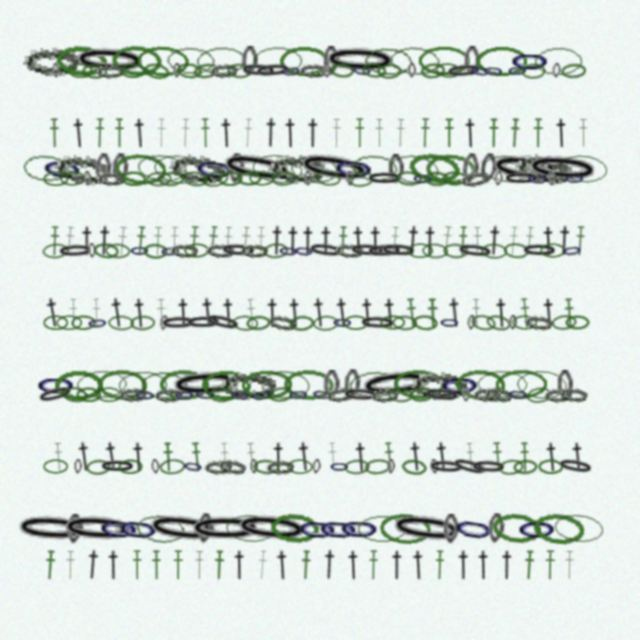chain: (218, 148, 296, 189), (295, 148, 373, 189), (388, 510, 466, 548), (488, 150, 565, 188), (145, 510, 222, 548), (358, 366, 435, 403), (233, 510, 310, 547), (524, 151, 601, 187), (72, 44, 148, 78), (14, 512, 90, 546), (60, 512, 136, 546), (322, 44, 398, 77), (169, 368, 245, 401), (188, 514, 263, 544), (514, 150, 573, 187), (53, 151, 112, 187), (168, 151, 226, 186), (407, 150, 461, 187), (151, 151, 206, 187), (387, 151, 441, 187), (250, 151, 305, 186), (133, 511, 187, 546), (552, 511, 606, 546), (135, 151, 188, 186), (532, 511, 585, 546), (556, 152, 610, 186), (491, 511, 543, 546), (114, 152, 167, 186), (288, 152, 341, 186), (479, 152, 532, 186), (515, 368, 569, 401), (268, 153, 325, 184), (388, 44, 441, 77), (259, 368, 312, 401), (379, 512, 432, 545), (55, 44, 107, 77), (111, 44, 163, 77), (20, 152, 72, 185), (349, 152, 401, 185), (224, 512, 276, 545), (269, 512, 321, 545), (136, 45, 189, 77), (347, 369, 400, 401), (23, 46, 79, 76), (220, 370, 276, 400), (411, 370, 467, 400), (165, 45, 217, 77), (362, 45, 414, 77), (451, 511, 497, 547), (75, 369, 128, 400), (425, 153, 476, 185), (139, 369, 190, 401), (195, 45, 247, 76), (252, 45, 304, 76), (283, 369, 335, 400), (393, 369, 445, 400), (476, 369, 528, 400), (495, 369, 547, 400), (97, 369, 148, 400), (159, 369, 210, 400), (418, 46, 470, 76), (117, 370, 169, 400), (241, 370, 293, 400), (455, 369, 505, 400), (279, 46, 330, 76), (476, 46, 527, 76), (40, 152, 85, 186), (201, 370, 252, 400), (116, 512, 161, 546), (356, 514, 407, 544), (533, 46, 583, 76), (54, 370, 104, 400), (193, 152, 237, 186), (332, 152, 376, 185), (97, 512, 141, 545), (296, 513, 339, 545), (317, 513, 360, 545), (338, 513, 381, 544), (509, 46, 551, 76), (35, 370, 77, 400), (439, 370, 481, 400), (516, 514, 558, 544), (450, 455, 489, 479), (203, 311, 242, 334), (36, 383, 75, 406), (556, 456, 595, 477), (307, 241, 345, 260), (445, 62, 483, 80), (456, 242, 494, 260), (423, 386, 461, 404), (254, 62, 292, 79), (240, 62, 277, 79), (220, 242, 257, 259), (349, 242, 386, 259), (380, 242, 417, 259), (459, 169, 489, 189), (57, 243, 94, 259), (366, 243, 403, 259), (160, 315, 197, 331), (359, 315, 396, 331), (342, 387, 379, 403), (428, 459, 465, 475), (470, 459, 507, 475), (461, 153, 480, 184), (479, 153, 498, 184), (267, 313, 297, 332), (325, 385, 355, 404), (217, 457, 247, 476), (202, 169, 230, 189), (94, 153, 112, 184), (111, 153, 129, 184), (227, 153, 245, 184), (343, 369, 361, 400), (196, 513, 214, 544), (487, 513, 505, 544), (366, 171, 403, 186), (503, 171, 540, 186), (521, 243, 558, 258), (185, 315, 222, 330), (99, 459, 136, 474), (143, 61, 170, 81), (485, 313, 512, 333), (370, 386, 399, 404), (470, 313, 497, 332), (241, 46, 258, 76), (323, 370, 340, 400), (66, 514, 83, 544), (209, 62, 238, 79), (524, 314, 553, 331), (118, 386, 147, 403), (484, 386, 513, 403), (559, 386, 588, 403), (348, 170, 375, 188), (526, 386, 553, 404), (323, 46, 339, 76), (464, 46, 480, 76), (388, 154, 404, 184), (557, 370, 573, 400), (443, 514, 459, 544), (193, 62, 219, 80), (182, 170, 208, 188), (401, 458, 427, 476), (498, 458, 524, 476), (395, 170, 422, 187), (159, 458, 186, 475), (364, 458, 391, 475), (96, 63, 124, 79), (154, 387, 182, 403), (544, 387, 572, 403), (204, 459, 232, 475), (266, 459, 294, 475), (176, 62, 202, 79), (329, 62, 355, 79), (361, 62, 387, 79), (420, 62, 446, 79), (435, 62, 461, 79), (271, 170, 297, 187), (315, 170, 341, 187), (93, 242, 119, 259), (263, 242, 289, 259), (503, 242, 529, 259), (412, 314, 438, 331), (551, 314, 577, 331), (62, 386, 88, 403), (268, 386, 294, 403), (409, 386, 435, 403), (42, 243, 69, 259), (299, 63, 327, 78), (97, 171, 125, 186), (170, 243, 198, 258), (206, 243, 234, 258), (240, 243, 268, 258), (335, 243, 363, 258), (473, 387, 501, 402), (146, 171, 172, 187), (158, 171, 184, 187), (422, 243, 448, 259), (481, 243, 507, 259), (108, 315, 134, 331), (232, 315, 258, 331), (289, 315, 315, 331), (313, 315, 339, 331), (208, 387, 234, 403), (253, 459, 279, 475), (344, 459, 370, 475), (469, 62, 492, 80), (250, 386, 273, 404), (82, 63, 107, 79), (227, 63, 252, 79), (377, 63, 402, 79), (521, 63, 546, 79), (561, 63, 586, 79), (424, 171, 449, 187), (105, 243, 130, 259), (143, 243, 168, 259), (443, 243, 468, 259), (130, 315, 155, 331), (246, 315, 271, 331), (392, 315, 417, 331), (388, 387, 413, 403), (86, 459, 111, 475), (513, 459, 538, 475), (43, 171, 69, 186), (407, 243, 433, 258), (56, 315, 82, 330), (96, 387, 122, 402), (287, 459, 313, 474), (68, 63, 93, 78), (120, 63, 145, 78), (60, 171, 85, 186), (121, 171, 146, 186), (218, 171, 243, 186), (237, 171, 262, 186), (249, 171, 274, 186), (442, 171, 467, 186), (184, 243, 209, 258), (540, 243, 565, 258), (43, 315, 68, 330), (71, 315, 96, 330), (343, 315, 368, 330), (380, 315, 405, 330), (512, 315, 537, 330), (565, 315, 590, 330), (76, 387, 101, 402), (43, 459, 68, 474), (118, 459, 143, 474), (538, 459, 563, 474), (351, 62, 373, 79), (561, 242, 583, 259), (194, 386, 216, 403), (311, 386, 333, 403), (507, 386, 529, 403), (182, 458, 204, 475), (280, 63, 302, 79), (293, 243, 315, 259), (134, 387, 156, 403), (229, 387, 251, 403), (483, 63, 504, 79), (527, 171, 548, 187), (160, 243, 181, 259), (278, 243, 299, 259), (87, 315, 108, 331), (174, 387, 195, 403), (507, 63, 528, 78), (412, 171, 433, 186), (564, 171, 585, 186), (129, 243, 150, 258), (332, 315, 353, 330), (439, 315, 460, 330), (288, 387, 309, 402), (329, 459, 350, 474), (159, 315, 169, 331), (552, 63, 561, 78), (83, 171, 92, 186), (494, 171, 503, 186), (467, 315, 476, 330), (151, 459, 160, 474), (312, 459, 321, 474), (430, 459, 439, 474), (52, 63, 60, 78), (173, 63, 181, 78), (323, 63, 331, 78), (408, 63, 416, 78), (304, 171, 312, 186), (346, 171, 354, 186), (548, 171, 556, 186), (88, 243, 96, 258), (509, 315, 517, 330), (462, 387, 470, 402), (74, 459, 82, 474), (250, 459, 258, 474), (387, 459, 395, 474)
half_double: (403, 225, 423, 256), (43, 297, 63, 328), (102, 441, 122, 472), (83, 549, 103, 580), (95, 225, 114, 256), (485, 225, 504, 256), (555, 225, 574, 256), (108, 297, 127, 328), (310, 297, 329, 328), (333, 297, 352, 328), (75, 441, 94, 472), (295, 441, 314, 472), (433, 441, 452, 472), (320, 549, 339, 580), (262, 117, 280, 148), (268, 225, 286, 256), (199, 297, 217, 328), (446, 297, 464, 328), (407, 441, 425, 472), (70, 118, 88, 148), (131, 118, 149, 148), (304, 118, 322, 148), (78, 226, 96, 256), (284, 226, 302, 256), (299, 226, 317, 256), (317, 226, 335, 256), (421, 226, 439, 256), (131, 298, 149, 328), (286, 298, 304, 328), (381, 298, 399, 328), (540, 298, 558, 328), (352, 442, 370, 472), (543, 442, 561, 472), (569, 442, 587, 472), (388, 550, 406, 580), (498, 550, 516, 580), (218, 118, 235, 148), (282, 118, 299, 148), (462, 118, 479, 148), (553, 118, 570, 148), (350, 226, 367, 256), (367, 226, 384, 256), (540, 226, 557, 256), (175, 298, 192, 328), (220, 298, 237, 328), (264, 298, 281, 328), (359, 298, 376, 328), (493, 298, 510, 328), (130, 442, 147, 472), (270, 442, 287, 472), (105, 550, 122, 580), (231, 550, 248, 580), (274, 550, 291, 580), (345, 550, 362, 580), (410, 550, 427, 580), (455, 550, 472, 580), (475, 550, 492, 580), (439, 225, 454, 256), (115, 226, 129, 256), (187, 226, 201, 256), (206, 226, 220, 256), (506, 226, 520, 256), (405, 298, 419, 328), (63, 226, 76, 256), (134, 226, 147, 256), (151, 226, 164, 256), (239, 226, 252, 256), (523, 226, 536, 256), (245, 298, 258, 328), (426, 298, 439, 328), (519, 298, 532, 328), (563, 298, 576, 328), (52, 442, 65, 472), (190, 442, 203, 472), (245, 442, 258, 472), (383, 442, 396, 472), (464, 442, 477, 472), (491, 442, 504, 472), (256, 550, 269, 580), (242, 118, 254, 148), (419, 118, 431, 148), (443, 118, 455, 148), (509, 118, 521, 148), (532, 118, 544, 148), (577, 118, 589, 148), (222, 226, 234, 256), (255, 226, 267, 256), (337, 226, 349, 256), (389, 226, 401, 256), (457, 226, 469, 256), (574, 226, 586, 256), (155, 298, 167, 328), (162, 442, 174, 472), (219, 442, 231, 472), (327, 442, 339, 472), (44, 550, 56, 580), (131, 550, 143, 580), (172, 550, 184, 580), (193, 550, 205, 580), (213, 550, 225, 580), (300, 550, 312, 580), (523, 550, 535, 580), (544, 550, 556, 580), (49, 118, 60, 148), (94, 118, 105, 148), (114, 118, 125, 148), (156, 118, 167, 148), (180, 118, 191, 148), (200, 118, 211, 148), (331, 118, 342, 148), (354, 118, 365, 148), (374, 118, 385, 148), (395, 118, 406, 148), (488, 118, 499, 148), (49, 226, 60, 256), (169, 226, 180, 256), (472, 226, 483, 256), (68, 298, 79, 328), (91, 298, 102, 328), (471, 298, 482, 328), (519, 442, 530, 472), (65, 550, 76, 580), (151, 550, 162, 580), (368, 550, 379, 580), (434, 550, 445, 580), (564, 550, 575, 580)
